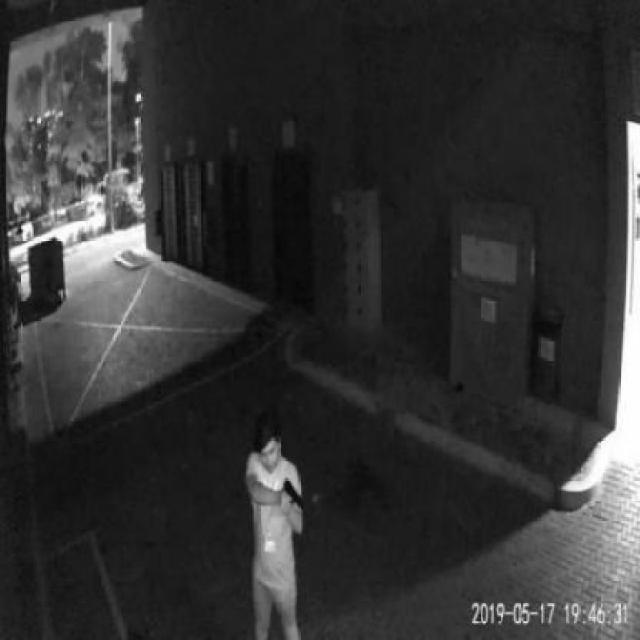gun: (281, 474, 301, 514)
